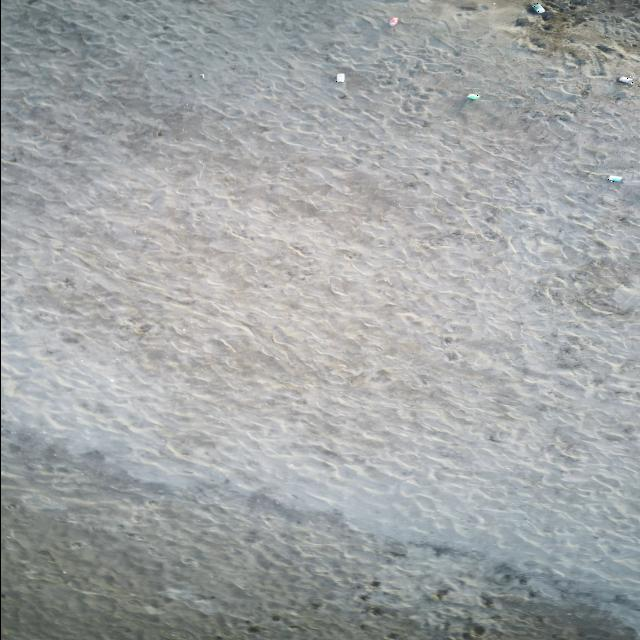Garbage: (528, 3, 552, 20), (595, 44, 613, 52), (529, 3, 544, 12), (540, 9, 552, 20), (516, 16, 528, 26), (617, 75, 632, 83), (387, 16, 399, 26), (467, 92, 479, 100), (607, 175, 622, 181), (335, 72, 344, 81), (200, 72, 203, 77)
